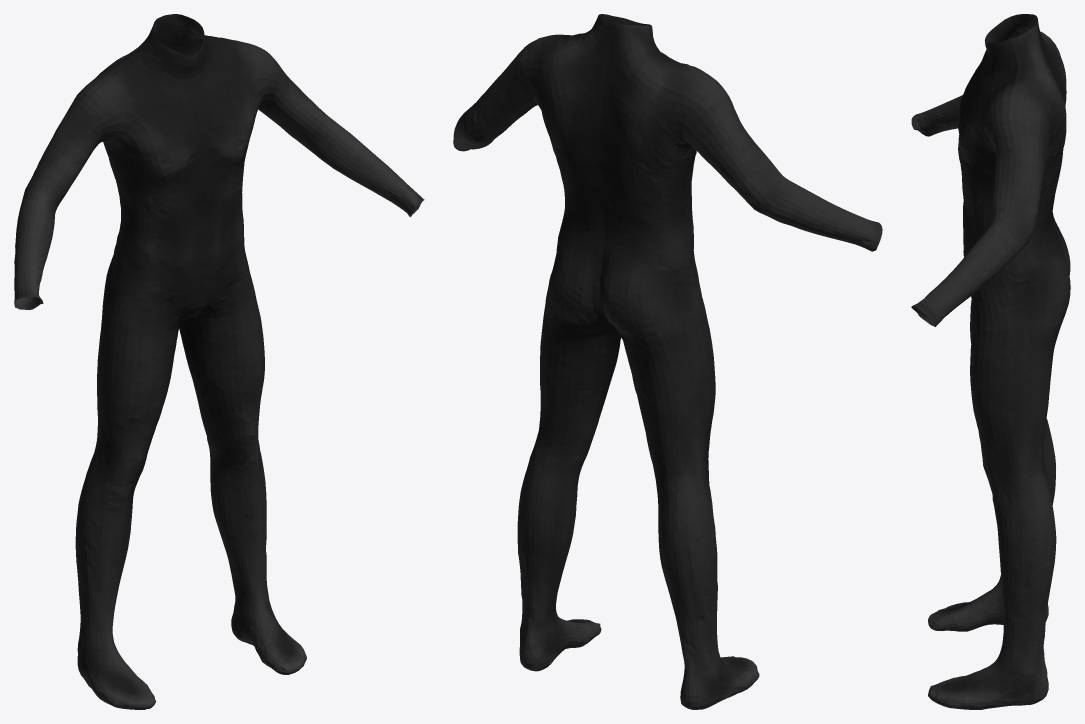
The model's file is mhw_matcreator_mc-skinsuit_2022.glb.
The picture shows the model from 3 angles, left to right: view 1: azimuth 30°, elevation 25°; view 2: azimuth 150°, elevation 25°; view 3: azimuth 270°, elevation 25°; orthographic projection. The views are drawn at different scales.
Parts seen in each view (by area): view 1: mhw_matcreator_mc-skinsuit_2022; view 2: mhw_matcreator_mc-skinsuit_2022; view 3: mhw_matcreator_mc-skinsuit_2022.
Part boxes in pixels (box(x1,y1,x2,y2)): mhw_matcreator_mc-skinsuit_2022: box(14, 14, 424, 709); mhw_matcreator_mc-skinsuit_2022: box(453, 14, 882, 709); mhw_matcreator_mc-skinsuit_2022: box(911, 14, 1070, 709).
Bounding box in the file's own units: 1.1 × 1.66 × 0.3709.
1 material, 1 textured.
